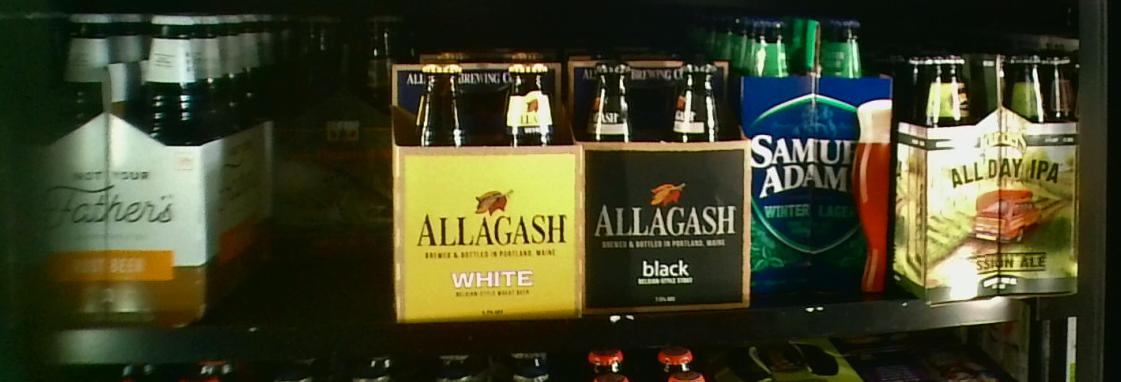bottle: (10, 9, 275, 324), (393, 36, 583, 322), (584, 38, 748, 319), (898, 50, 1082, 295), (741, 14, 894, 289), (279, 9, 392, 289)
